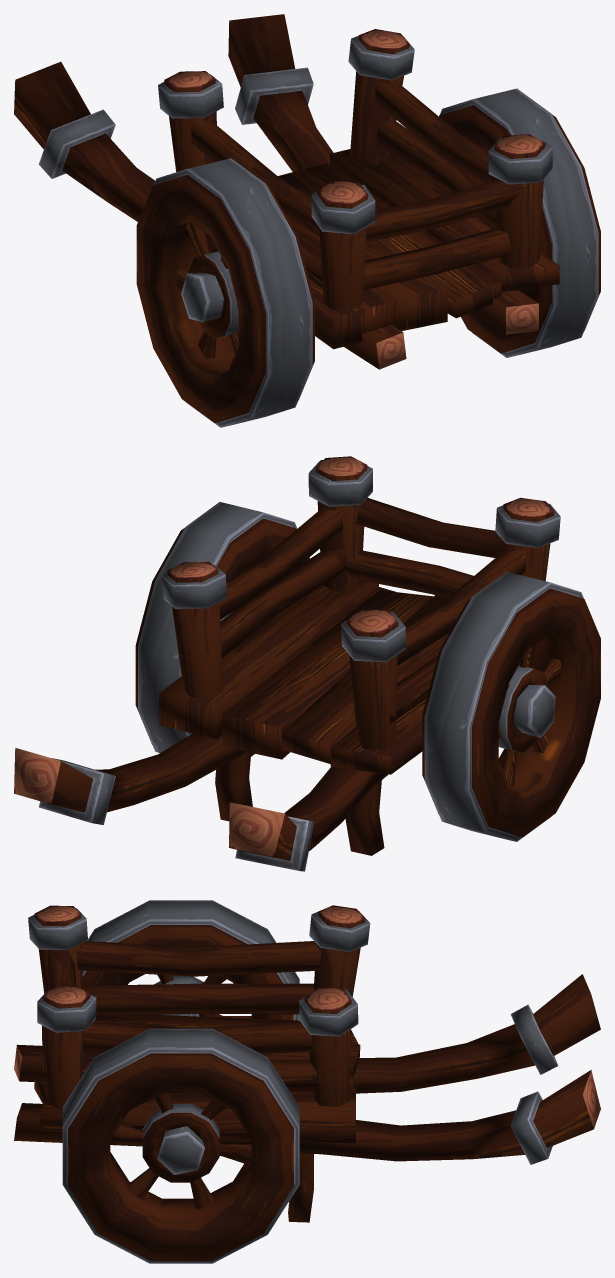
File: charrette-3.glb
3 views of the same model, one above another, from view 1: azimuth 30°, elevation 25°; view 2: azimuth 150°, elevation 25°; view 3: azimuth 270°, elevation 25° (orthographic). The views are drawn at different scales.
Parts seen in each view (by area): view 1: SM_PROP_cart_02; view 2: SM_PROP_cart_02; view 3: SM_PROP_cart_02.
Boxes of the visible parts, x1,y1,x2,y2 form: SM_PROP_cart_02: (14, 14, 600, 427); SM_PROP_cart_02: (14, 456, 600, 871); SM_PROP_cart_02: (14, 900, 600, 1263).
Size of the model in its own units: 2.75 by 1.94 by 4.38.
Materials: 3 (3 with a texture image).
